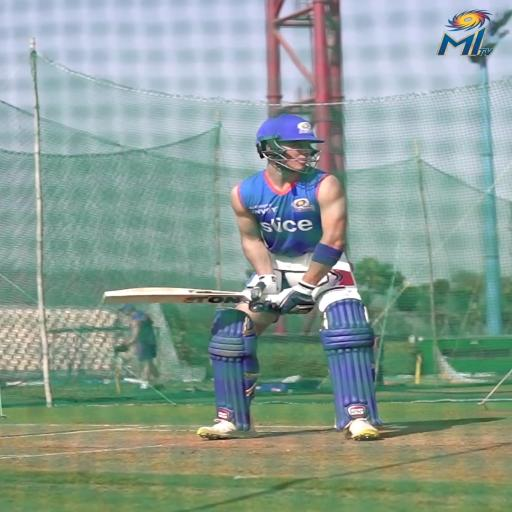Cricket bat: (102, 287, 245, 305)
